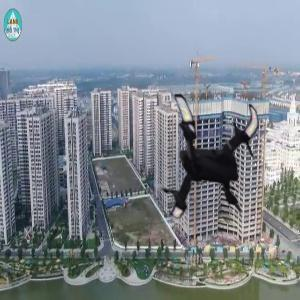drone: (131, 88, 283, 240)
